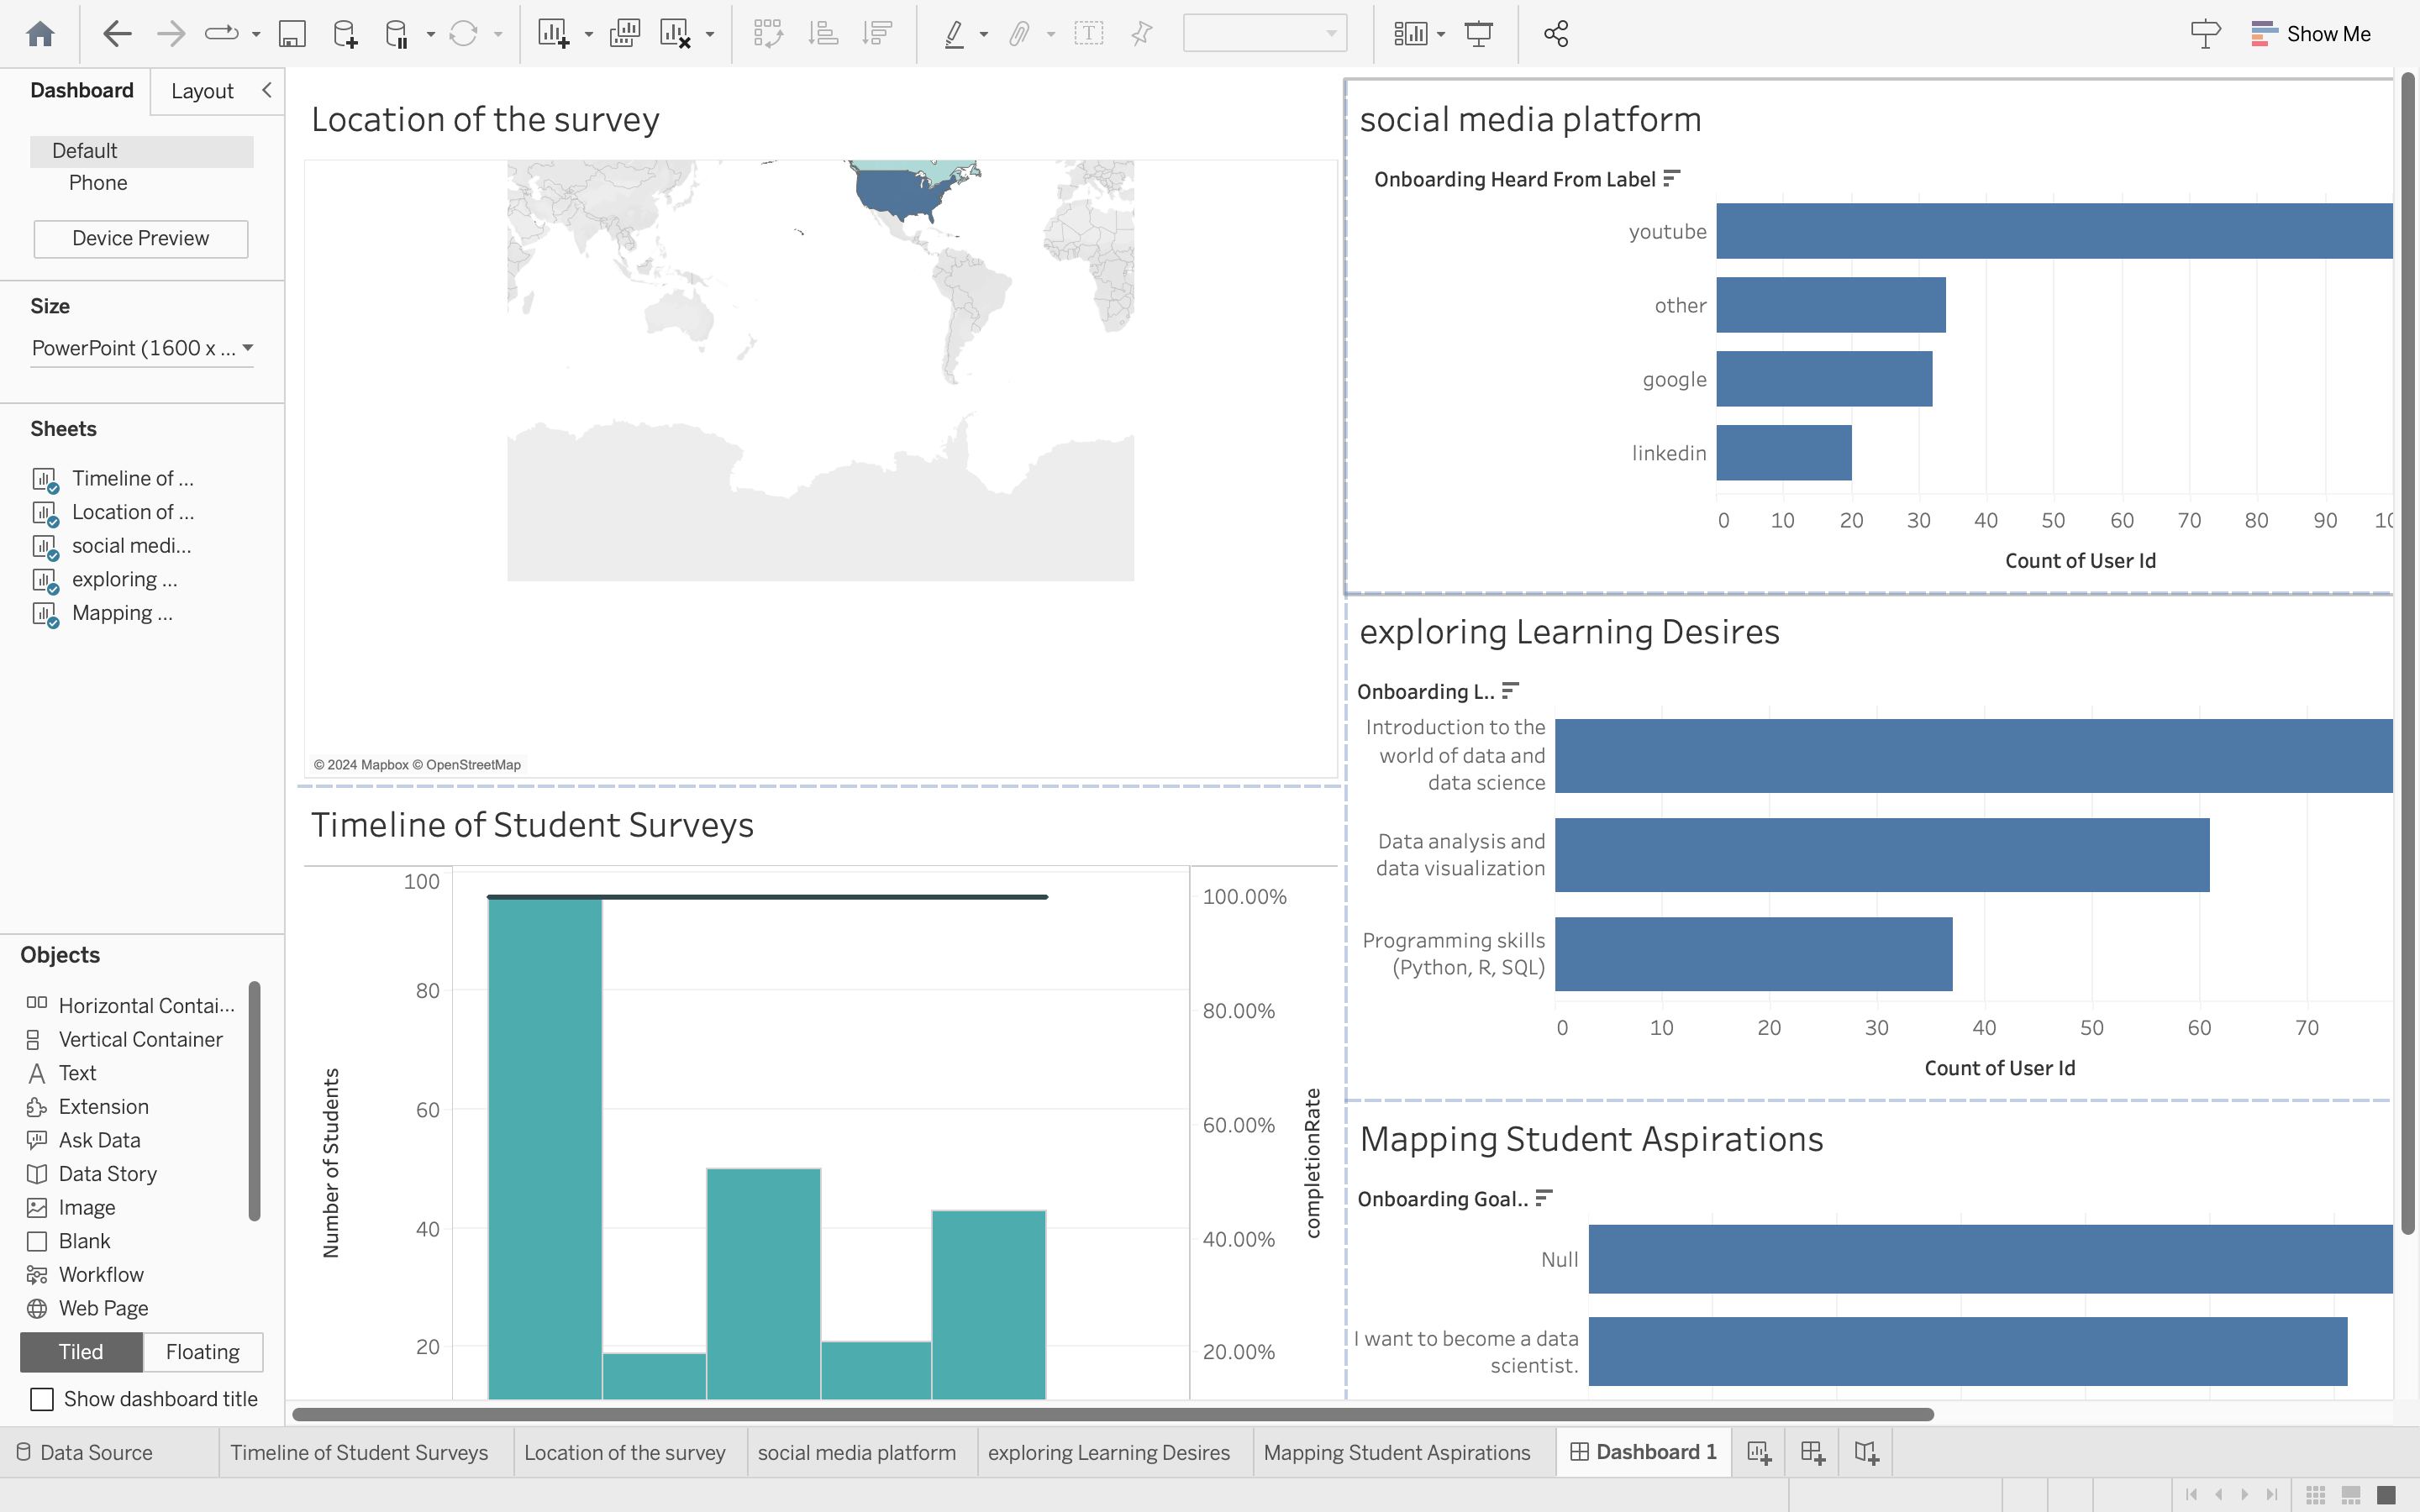

The dashboard page shown, as its layout file describes it:
{"tool":"tableau","page":{"name":"Dashboard 1","canvas":[1600,900],"ordinal":0},"visuals":[{"type":"worksheet","title":"Location of the survey","mark":"Multipolygon","box":[8,8,650,426]},{"type":"worksheet","title":"social media platform","mark":"Bar","rows":["onboarding_heard_from_label"],"cols":["user_id"],"box":[658,8,650,217]},{"type":"legend","title":"Location of the survey","param":"[federated.1nbe2sp1rwayer1g2f0uc1drlm2f].[usr:Calculation_3310990192432128001:qk","box":[1308,8,284,65]},{"type":"legend","title":"Timeline of Student Surveys","param":"[federated.1nbe2sp1rwayer1g2f0uc1drlm2f].[:Measure Names]","box":[1308,73,284,65]},{"type":"filter","title":"Timeline of Student Surveys","param":"[federated.1nbe2sp1rwayer1g2f0uc1drlm2f].[none:Calculation_3349130052008468482:n","box":[1308,138,284,65]},{"type":"parameter","param":"[Parameters].[Parameter 1]","box":[1308,203,284,65]},{"type":"worksheet","title":"exploring Learning Desires","mark":"Automatic","rows":["onboarding_learn_label"],"cols":["user_id"],"box":[658,225,650,369]},{"type":"parameter","param":"[Parameters].[Parameter 2]","box":[1308,268,284,132]},{"type":"filter","title":"Timeline of Student Surveys","param":"[federated.1nbe2sp1rwayer1g2f0uc1drlm2f].[none:onboarded:nk]","box":[1308,400,284,65]},{"type":"worksheet","title":"Timeline of Student Surveys","mark":"Bar","rows":["Calculation_3241395504383569921","Calculation_3349130051975192576"],"cols":["user_registered"],"box":[8,434,650,458]},{"type":"filter","title":"Timeline of Student Surveys","param":"[federated.1nbe2sp1rwayer1g2f0uc1drlm2f].[usr:Calculation_3310990192432128001:qk","box":[1308,465,284,51]},{"type":"filter","title":"Location of the survey","param":"[federated.1nbe2sp1rwayer1g2f0uc1drlm2f].[none:onboarding_country:nk]","box":[1308,516,284,65]},{"type":"filter","title":"Timeline of Student Surveys","param":"[federated.1nbe2sp1rwayer1g2f0uc1drlm2f].[none:user_paid:qk]","box":[1308,581,284,51]},{"type":"worksheet","title":"Mapping Student Aspirations","mark":"Automatic","rows":["onboarding_goals_label"],"cols":["user_id"],"box":[658,594,650,298]},{"type":"filter","title":"Timeline of Student Surveys","param":"[federated.1nbe2sp1rwayer1g2f0uc1drlm2f].[none:subscription_type:nk]","box":[1308,632,284,65]},{"type":"filter","title":"Timeline of Student Surveys","param":"[federated.1nbe2sp1rwayer1g2f0uc1drlm2f].[none:onboarding_heard_from_label:nk]","box":[1308,697,284,65]},{"type":"filter","title":"Timeline of Student Surveys","param":"[federated.1nbe2sp1rwayer1g2f0uc1drlm2f].[none:onboarding_learn_label:nk]","box":[1308,762,284,65]},{"type":"filter","title":"Timeline of Student Surveys","param":"[federated.1nbe2sp1rwayer1g2f0uc1drlm2f].[none:onboarding_goals_label:nk]","box":[1308,827,284,65]}]}

Visuals, with their boxes on the page's 1600x900 design canvas (x1, y1, x2, y2). These are canvas units, not pixel positions in the 2420x1512 screenshot, which may show the page scaled, cropped or inside an application window:
"Location of the survey" worksheet (Multipolygon marks): 8, 8, 658, 434
"social media platform" worksheet (Bar marks): 658, 8, 1308, 225
"Location of the survey" legend: 1308, 8, 1592, 73
"Timeline of Student Surveys" legend: 1308, 73, 1592, 138
"Timeline of Student Surveys" filter: 1308, 138, 1592, 203
parameter: 1308, 203, 1592, 268
"exploring Learning Desires" worksheet: 658, 225, 1308, 594
parameter: 1308, 268, 1592, 400
"Timeline of Student Surveys" filter: 1308, 400, 1592, 465
"Timeline of Student Surveys" worksheet (Bar marks): 8, 434, 658, 892
"Timeline of Student Surveys" filter: 1308, 465, 1592, 516
"Location of the survey" filter: 1308, 516, 1592, 581
"Timeline of Student Surveys" filter: 1308, 581, 1592, 632
"Mapping Student Aspirations" worksheet: 658, 594, 1308, 892
"Timeline of Student Surveys" filter: 1308, 632, 1592, 697
"Timeline of Student Surveys" filter: 1308, 697, 1592, 762
"Timeline of Student Surveys" filter: 1308, 762, 1592, 827
"Timeline of Student Surveys" filter: 1308, 827, 1592, 892
